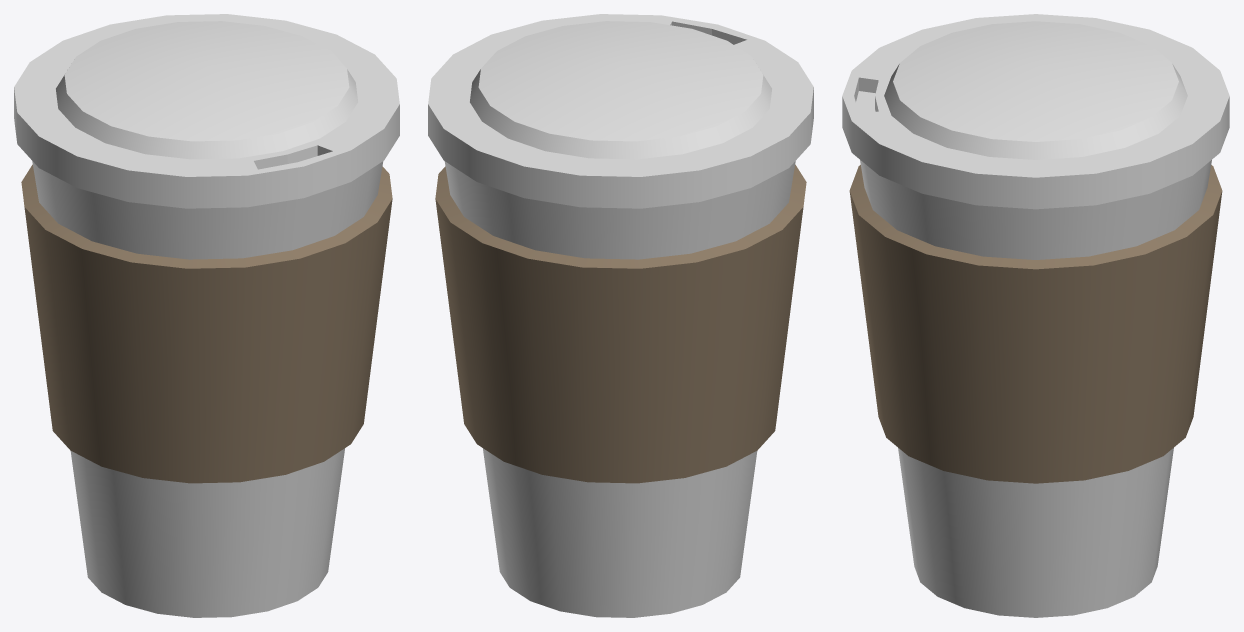
Rendered from coffee_cup.fbx.
3 renders of one model, left to right at view 1: azimuth 30°, elevation 25°; view 2: azimuth 150°, elevation 25°; view 3: azimuth 270°, elevation 25°, orthographic.
Parts seen in each view (by area): view 1: cup, lid; view 2: cup, lid; view 3: cup, lid.
Part boxes in pixels (x1,y1,x2,y2): cup: (21, 161, 392, 617); lid: (14, 14, 399, 208); cup: (435, 161, 806, 617); lid: (428, 14, 813, 208); cup: (849, 160, 1222, 617); lid: (842, 14, 1229, 209).
Size of the model in its own units: 2.1 by 2.99 by 2.1.
